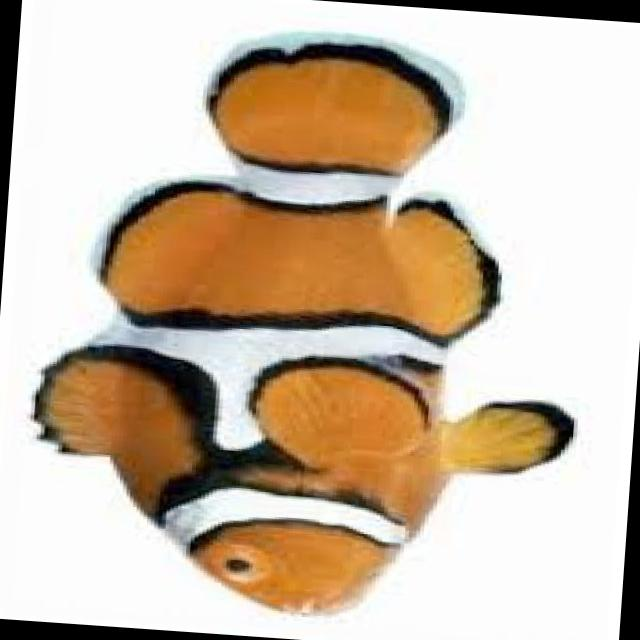ClownFish: (0, 5, 603, 640)
